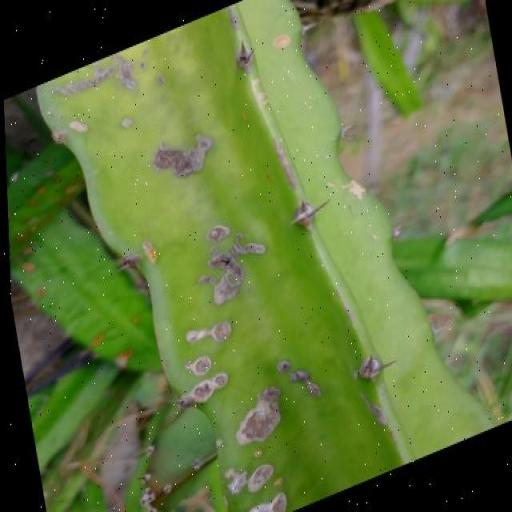stemcanker: (181, 317, 236, 408), (222, 455, 292, 512), (201, 219, 234, 248), (116, 111, 139, 139), (155, 70, 167, 93), (137, 53, 149, 75)
